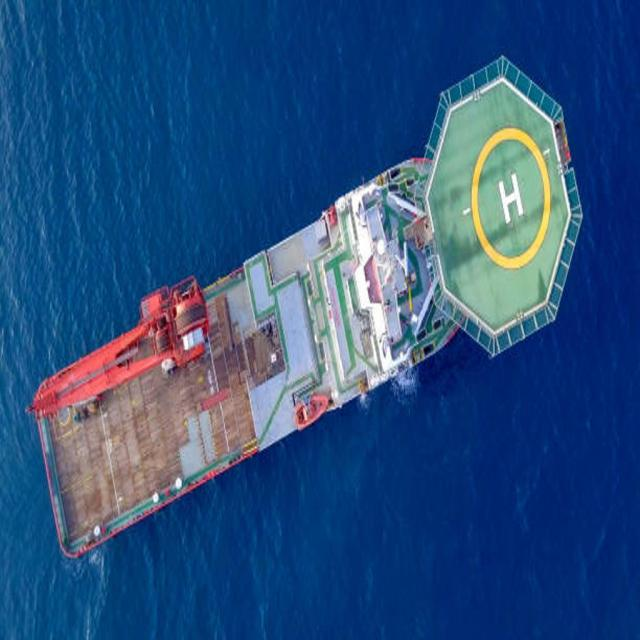helipad: (470, 125, 550, 268)
